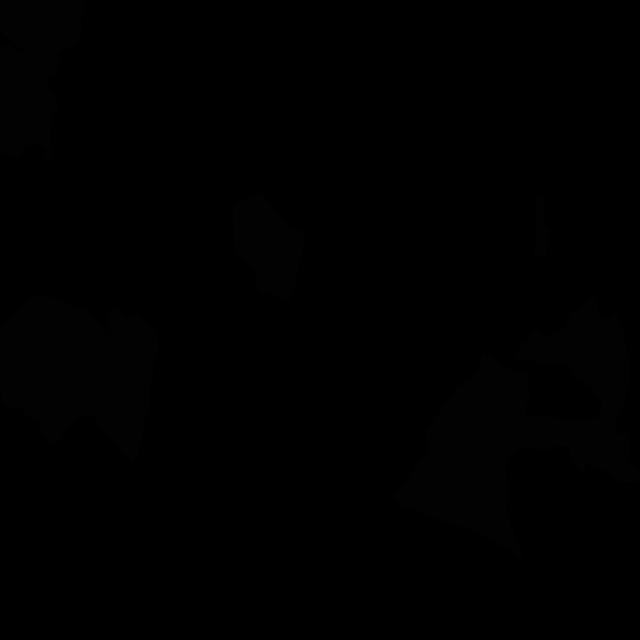cardboard: (440, 294, 640, 521), (0, 295, 150, 433), (390, 410, 524, 560), (0, 343, 81, 444), (232, 193, 304, 301), (0, 45, 58, 160), (0, 0, 85, 77), (107, 305, 159, 399), (104, 417, 145, 464), (534, 192, 550, 261)
